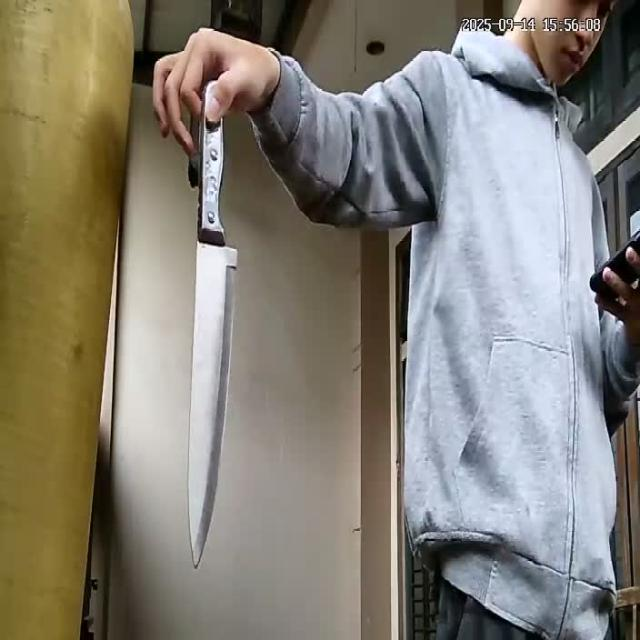senjata_tajam: (187, 116, 240, 571)
